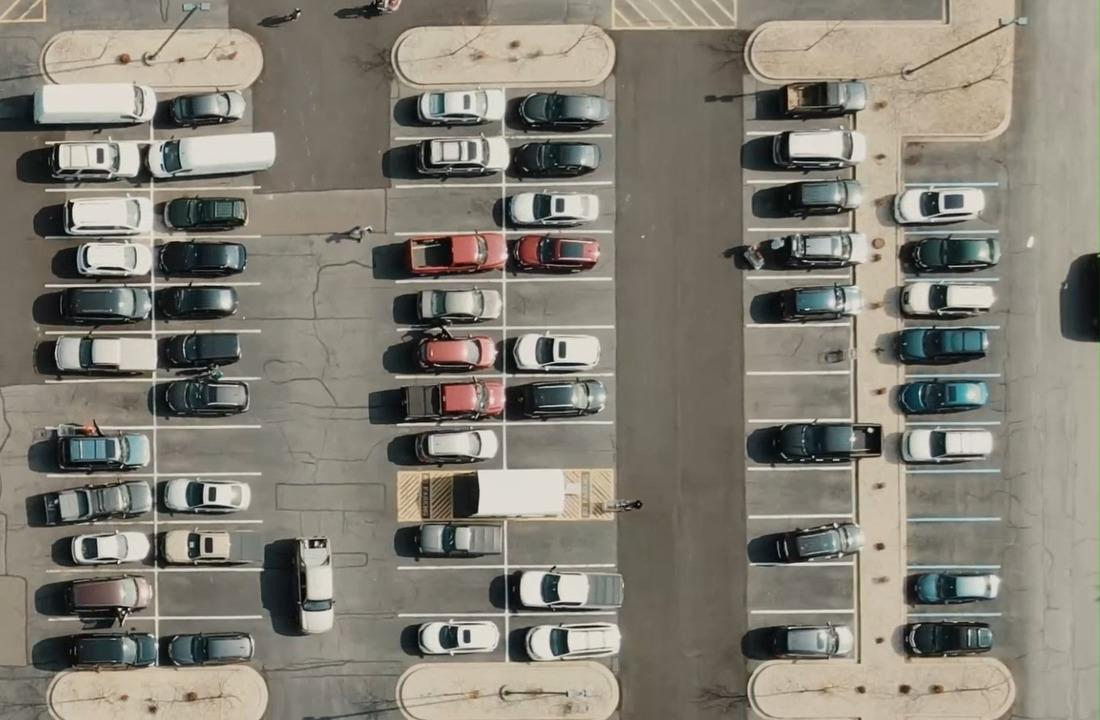car: (145, 130, 276, 180), (746, 419, 882, 465), (32, 81, 156, 126), (40, 479, 152, 526), (741, 230, 864, 271), (746, 520, 863, 563), (510, 567, 624, 611), (403, 231, 508, 276), (751, 177, 862, 219), (740, 621, 853, 661), (509, 621, 621, 661), (399, 379, 505, 421), (63, 573, 152, 623), (506, 378, 607, 420), (292, 536, 335, 633), (45, 139, 143, 181), (771, 128, 866, 171), (492, 190, 598, 228), (149, 378, 249, 418), (414, 134, 502, 179), (898, 280, 997, 320), (516, 90, 610, 132), (57, 285, 152, 325), (65, 630, 157, 671), (892, 185, 986, 225), (509, 233, 600, 274), (508, 332, 601, 372), (411, 330, 498, 372), (508, 140, 601, 179), (894, 326, 988, 364), (905, 235, 1001, 272), (156, 239, 247, 278), (415, 87, 504, 126), (778, 79, 867, 118), (160, 477, 251, 515), (900, 427, 993, 464), (896, 378, 989, 414), (161, 630, 254, 666), (414, 286, 502, 324), (903, 620, 993, 657), (158, 195, 247, 232), (412, 428, 499, 465), (412, 522, 503, 557), (153, 283, 239, 320), (781, 279, 856, 321), (168, 88, 246, 128), (62, 196, 142, 235), (415, 619, 499, 656), (69, 529, 151, 566), (161, 331, 241, 368), (913, 570, 1000, 604), (74, 241, 152, 278)
